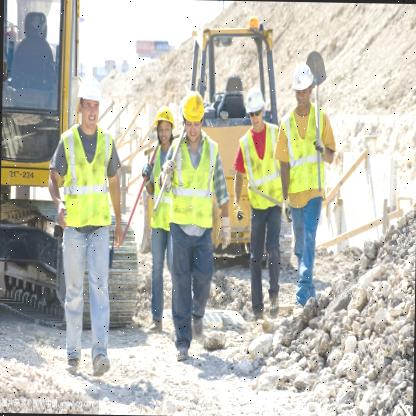capacete: (75, 73, 103, 129), (180, 88, 206, 142), (291, 60, 314, 110), (153, 101, 175, 146), (244, 85, 265, 131)
colete_refletivo: (46, 124, 122, 232), (274, 99, 336, 196), (166, 132, 221, 233), (235, 121, 284, 212), (146, 139, 180, 233)
